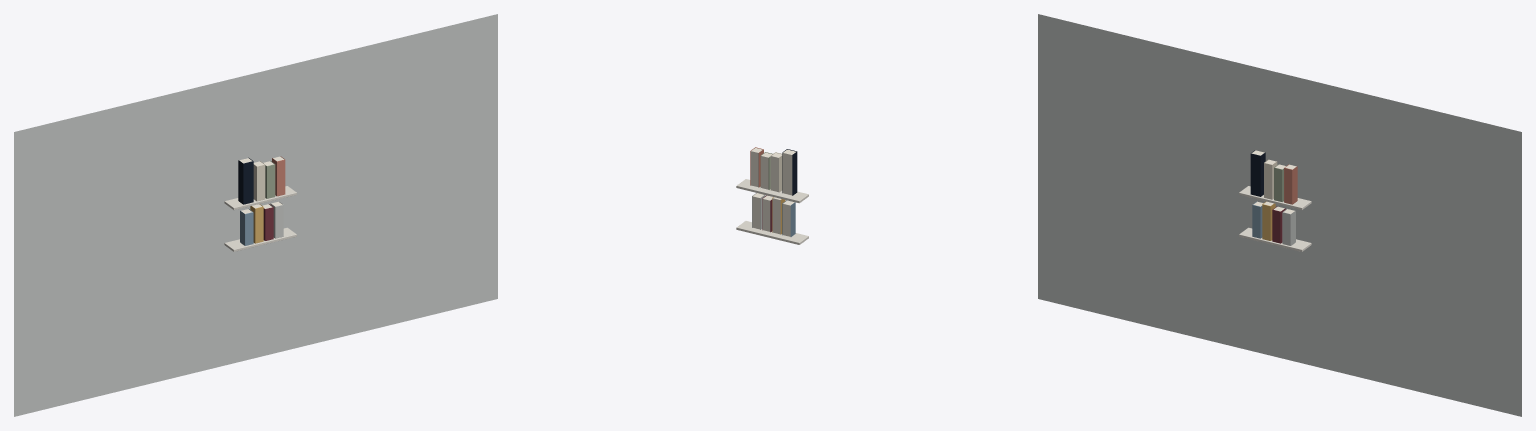
The model's file is bookshelf.glb.
3 views of the same model, side by side, from view 1: azimuth 30°, elevation 25°; view 2: azimuth 150°, elevation 25°; view 3: azimuth 330°, elevation 25° (orthographic).
Parts seen in each view (by area): view 1: Supporting wall, rounded-spine, shelf-bottom; view 2: shelf-bottom, shelf-top, recessed-page-block; view 3: Supporting wall, rounded-spine, shelf-bottom.
Boxes of the visible parts, x1=… form: Supporting wall: x1=14, y1=14, x2=497, y2=416; rounded-spine: x1=243, y1=161, x2=253, y2=204; shelf-bottom: x1=224, y1=227, x2=296, y2=251; shelf-bottom: x1=736, y1=221, x2=808, y2=244; shelf-top: x1=736, y1=179, x2=808, y2=203; recessed-page-block: x1=782, y1=149, x2=796, y2=195; Supporting wall: x1=1038, y1=14, x2=1521, y2=416; rounded-spine: x1=1250, y1=153, x2=1260, y2=196; shelf-bottom: x1=1239, y1=227, x2=1311, y2=251.
Bounding box in the file's own units: 5016 × 2823 × 169.
